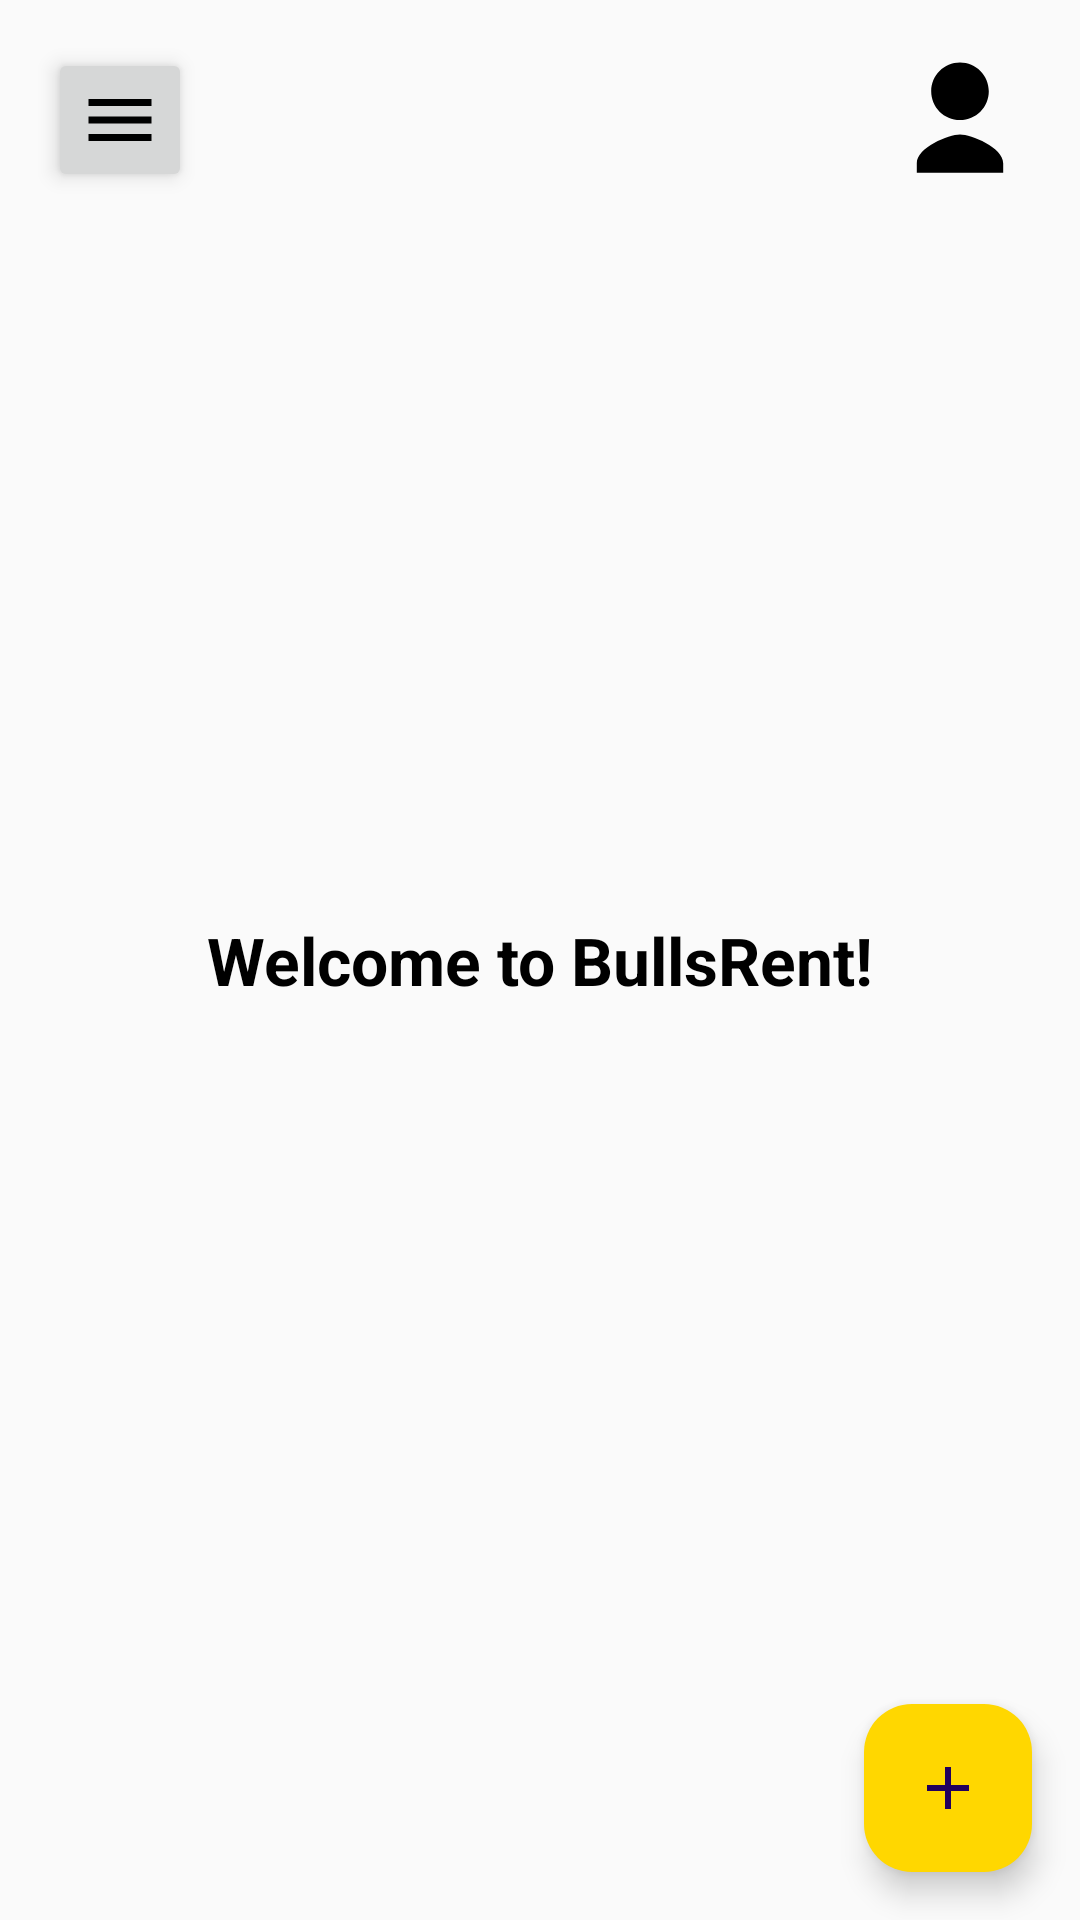

Named icons in this screenshot (1080 × 1920) and their bounding boxes, rect(x1, y1, x2, y2):
Add Listing: rect(864, 1704, 1032, 1872)
Menu: rect(58, 66, 180, 175)
Profile: rect(916, 62, 1004, 173)
